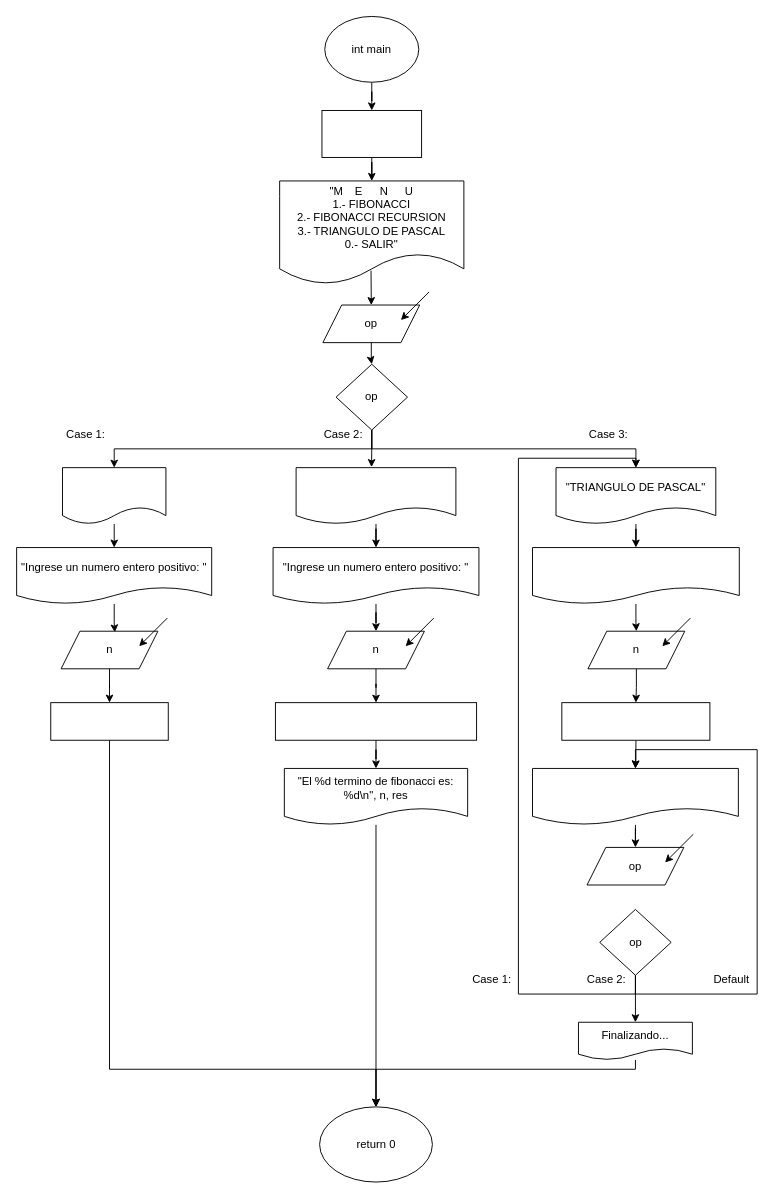
The diagram is 781 pixels wide and 1199 high, and some of its shapes have lost their labels. The shapes that lost their labels are listed below. From the top down, each one's centre as x and y in pixels, then its label:
point 371,133: int op, i, res, n
point 114,495: "FIBONACCI"
point 375,495: "FIBONACCI RECURSION"
point 635,575: "Ingrese el numero de filas deseado: "
point 109,721: calcularFibonacci(n)
point 375,721: res = calcularFibonacciRecursion(n)
point 635,721: generarTrianguloPascal(n)
point 635,796: "Desea generar otro triangulo de pascal? (1: Si / 2: No): "
